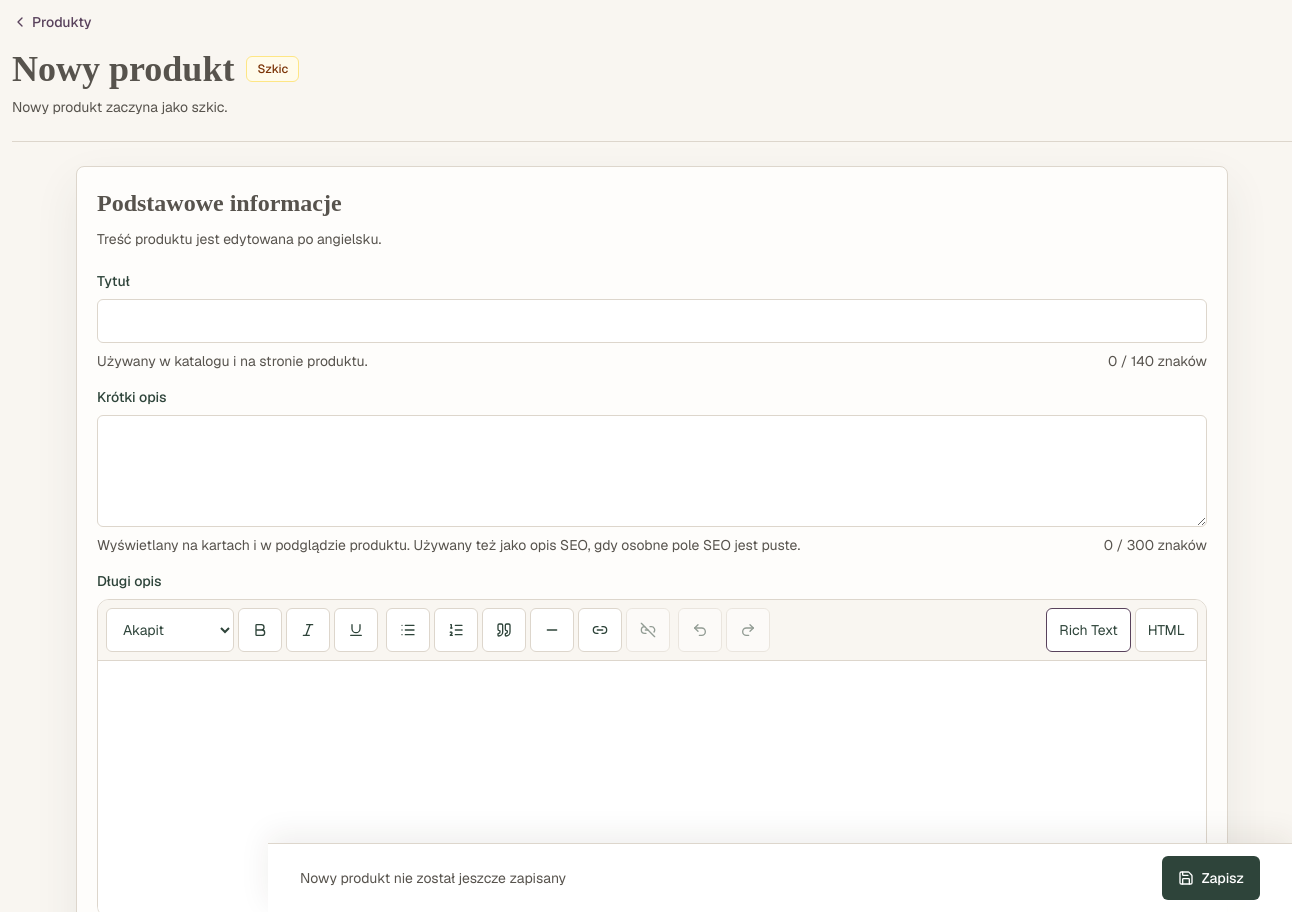
Test: ProductEditor V2 › keeps entered values and points to the title after a server validation error
Type "Draft with retained fields" into the field labelled "Tytuł". click: (652, 321)
box: [97,299,1207,343]
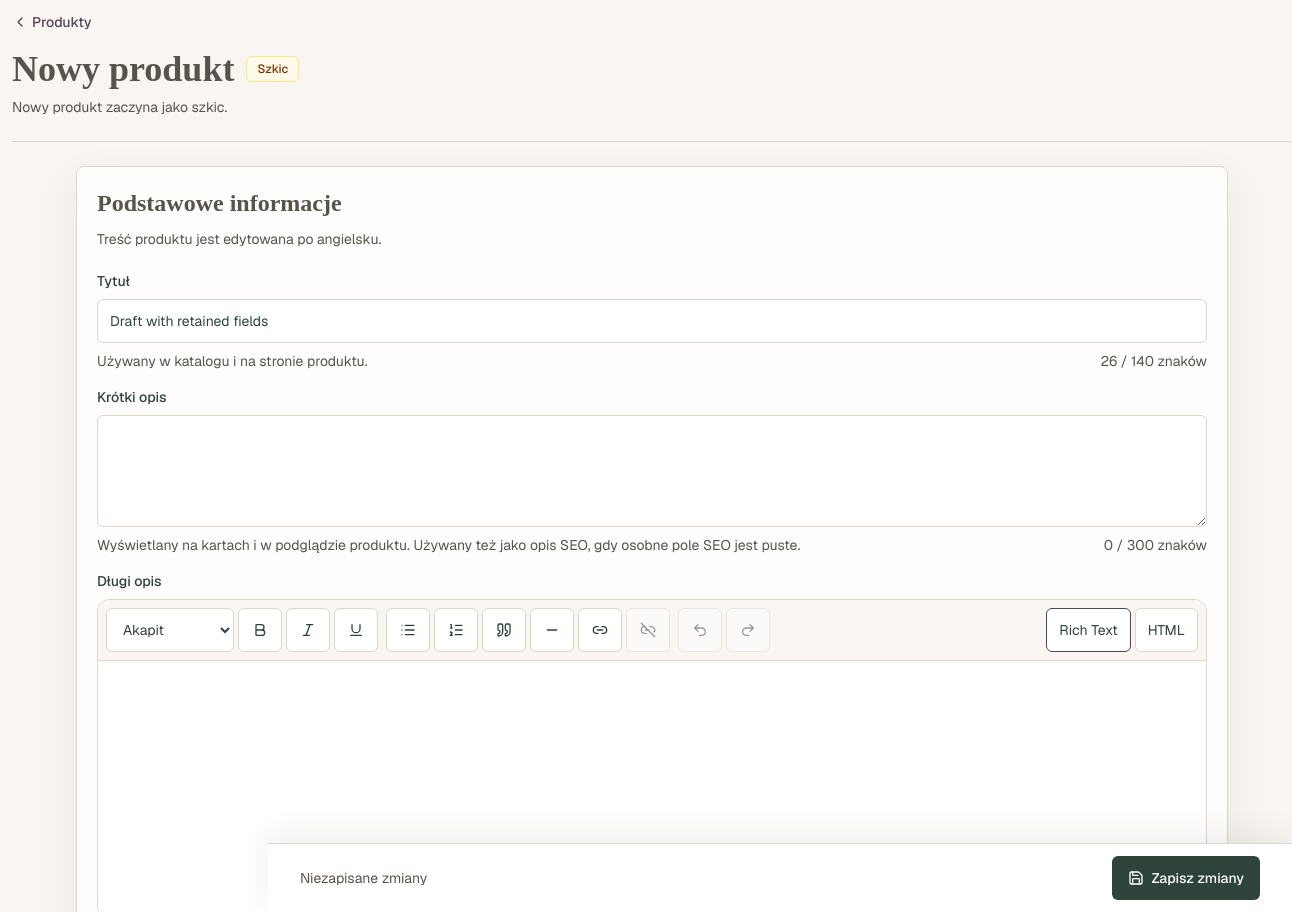
Type "This value must remain after the failed save." into the text box labelled "Krótki opis". click: (652, 471)
box: [97,415,1207,527]
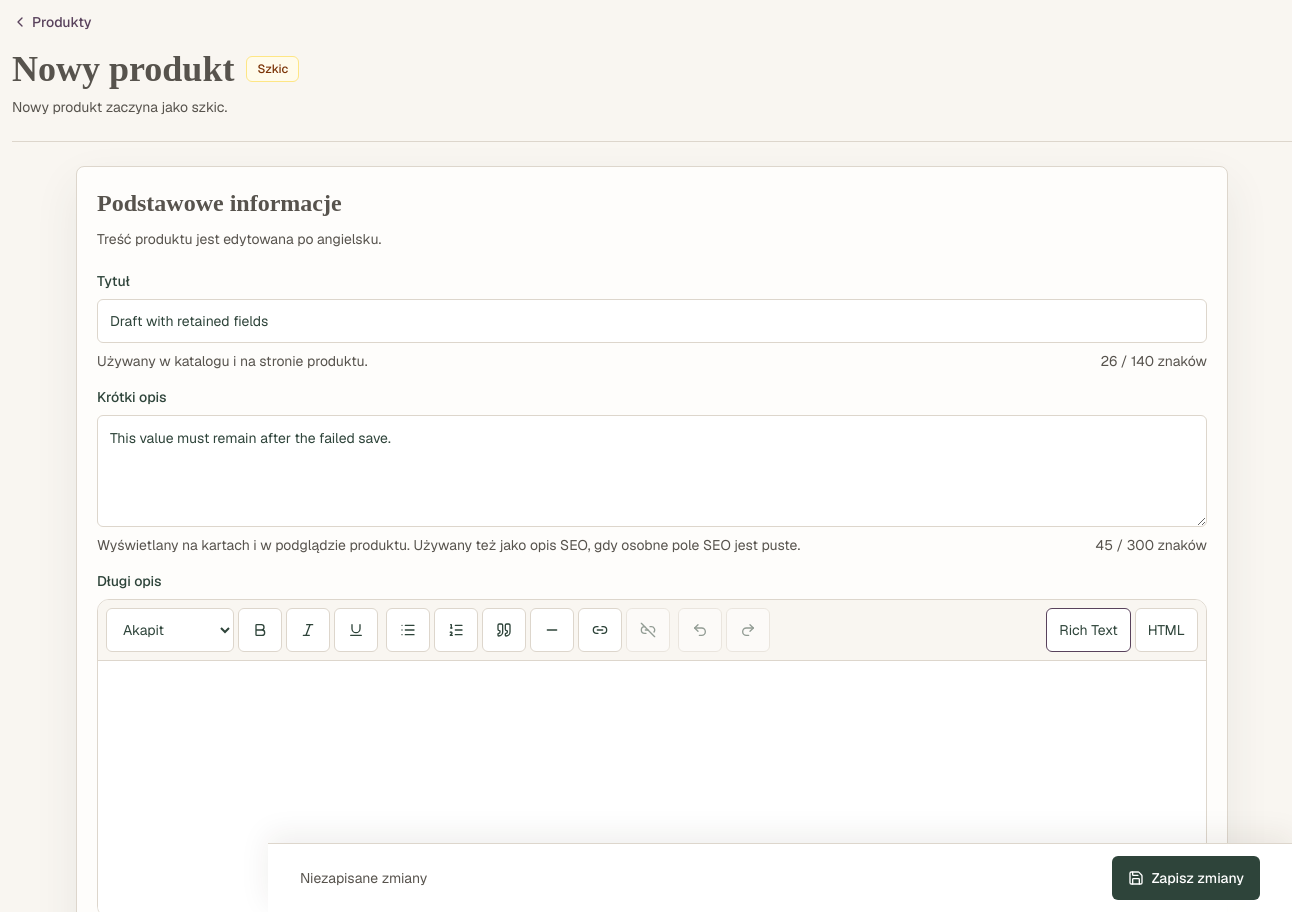
Click the button "Zapisz zmiany". click: (1186, 878)
box: [1112,856,1260,900]
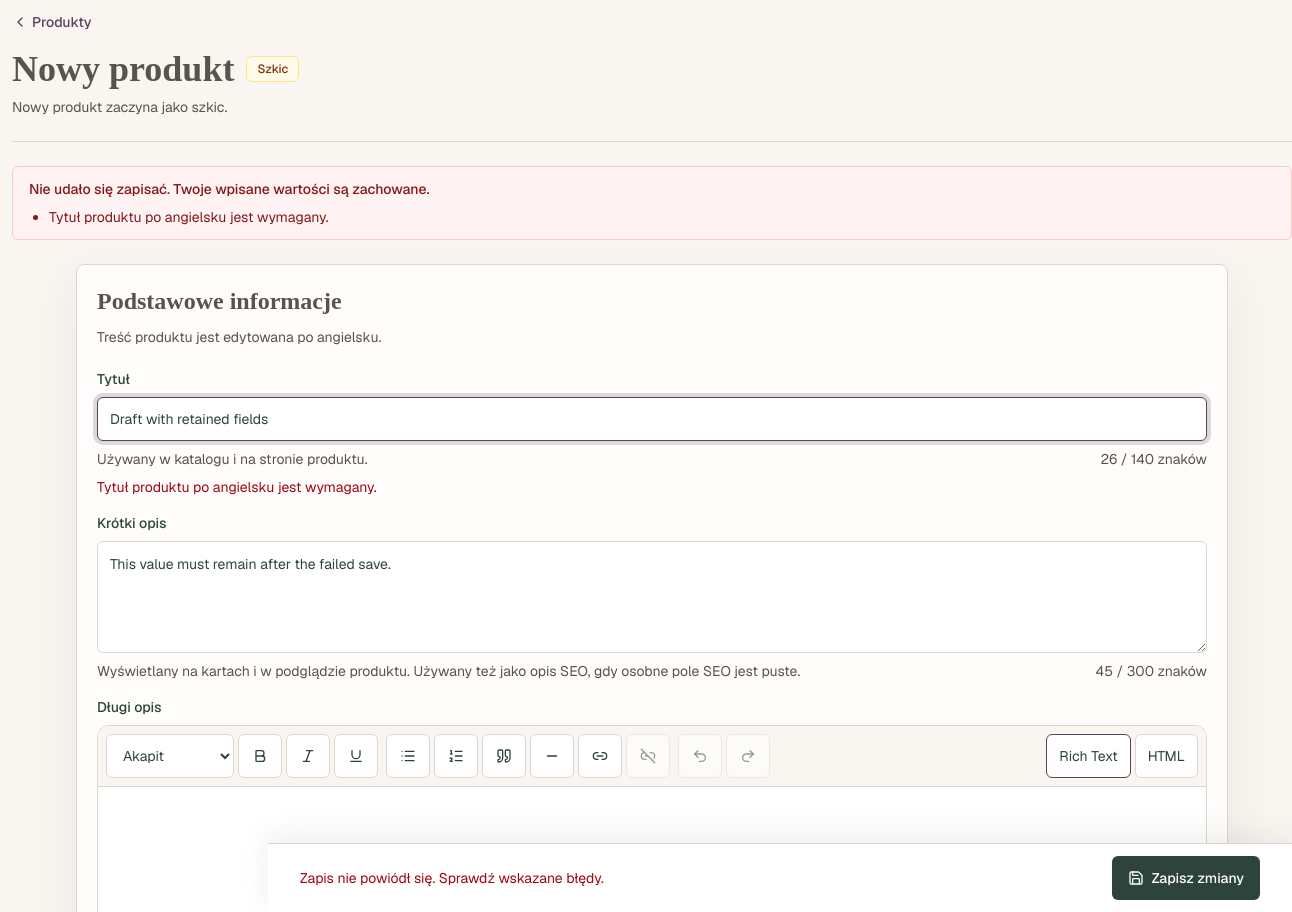
Expected: the text "Nie udało się zapisać. Twoje wpisane wartości są zachowane." is shown, [29,180,429,198]
Expected: the list item "Tytuł produktu po angielsku jest wymagany." is shown, [49,208,328,226]
